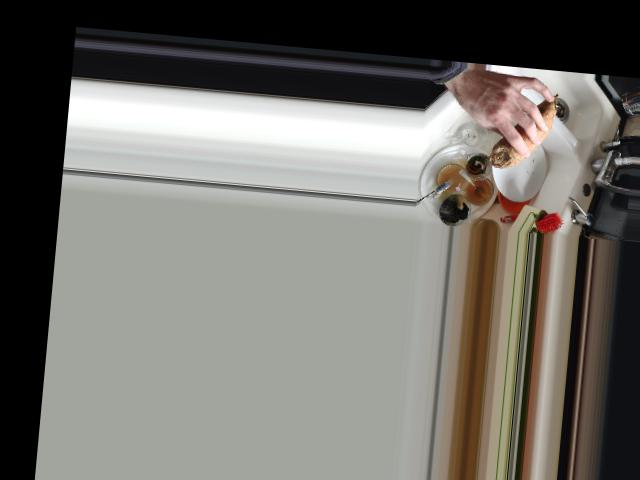sweet_potato: (490, 87, 558, 170)
